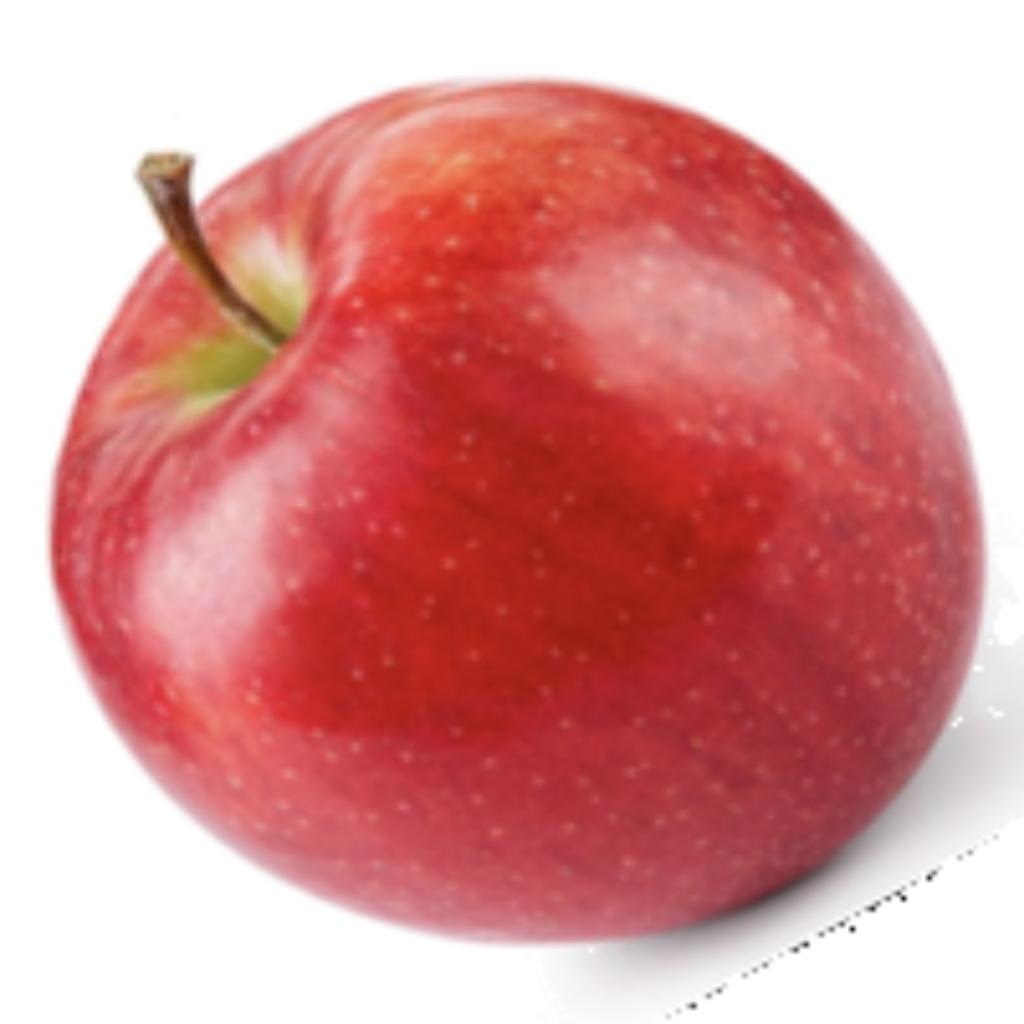apple: (41, 67, 1019, 1019)
